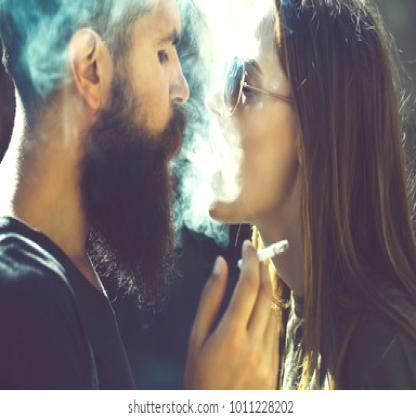cigarette: (237, 236, 290, 270)
person: (0, 0, 207, 415), (206, 0, 415, 393)
smoke: (176, 111, 242, 232), (25, 10, 65, 92)
